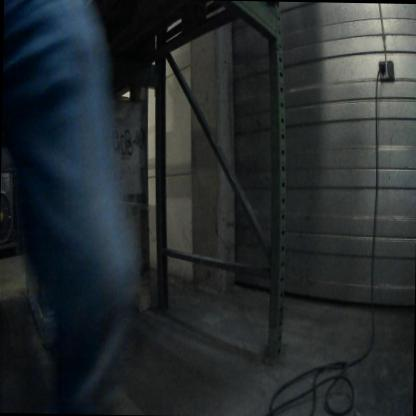pallet: (66, 1, 280, 75)
